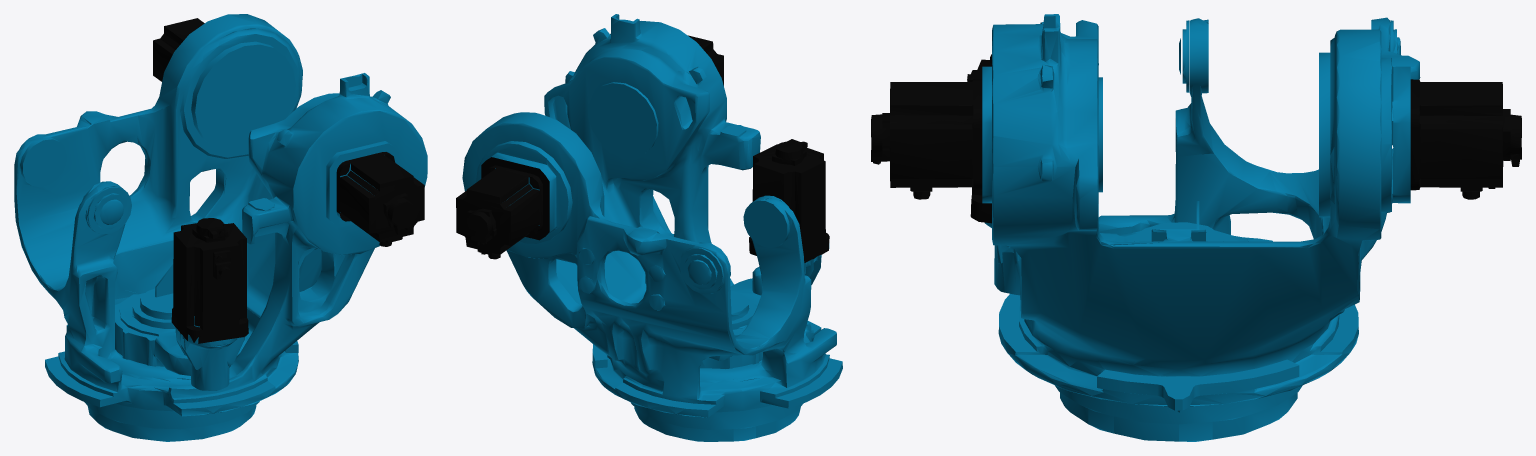
3 renders of one model, left to right at view 1: azimuth 30°, elevation 25°; view 2: azimuth 150°, elevation 25°; view 3: azimuth 270°, elevation 25°, orthographic. The views are drawn at different scales.
Visible parts, largest first — view 1: mh00400-j00_lk1; view 2: mh00400-j00_lk1; view 3: mh00400-j00_lk1.
Boxes of the visible parts, <box> form: mh00400-j00_lk1: <box>14,14,427,441</box>; mh00400-j00_lk1: <box>456,14,842,441</box>; mh00400-j00_lk1: <box>871,14,1521,441</box>.
Size of the model in its own units: 1.02 by 1.29 by 1.02.
